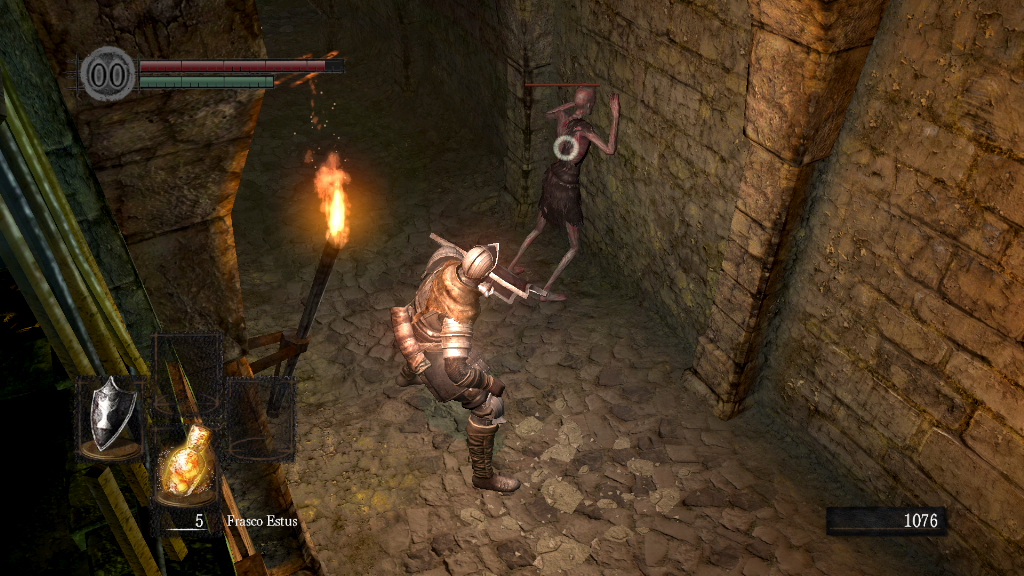health: (138, 58, 343, 71)
hollow: (506, 88, 622, 303)
humanity: (80, 45, 136, 102)
player: (388, 231, 549, 495)
souls: (825, 506, 945, 536)
stamina: (138, 74, 274, 88)
